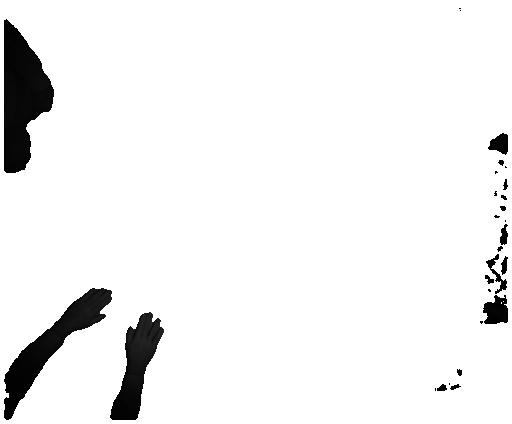hand: (62, 288, 111, 331), (125, 312, 167, 359)
